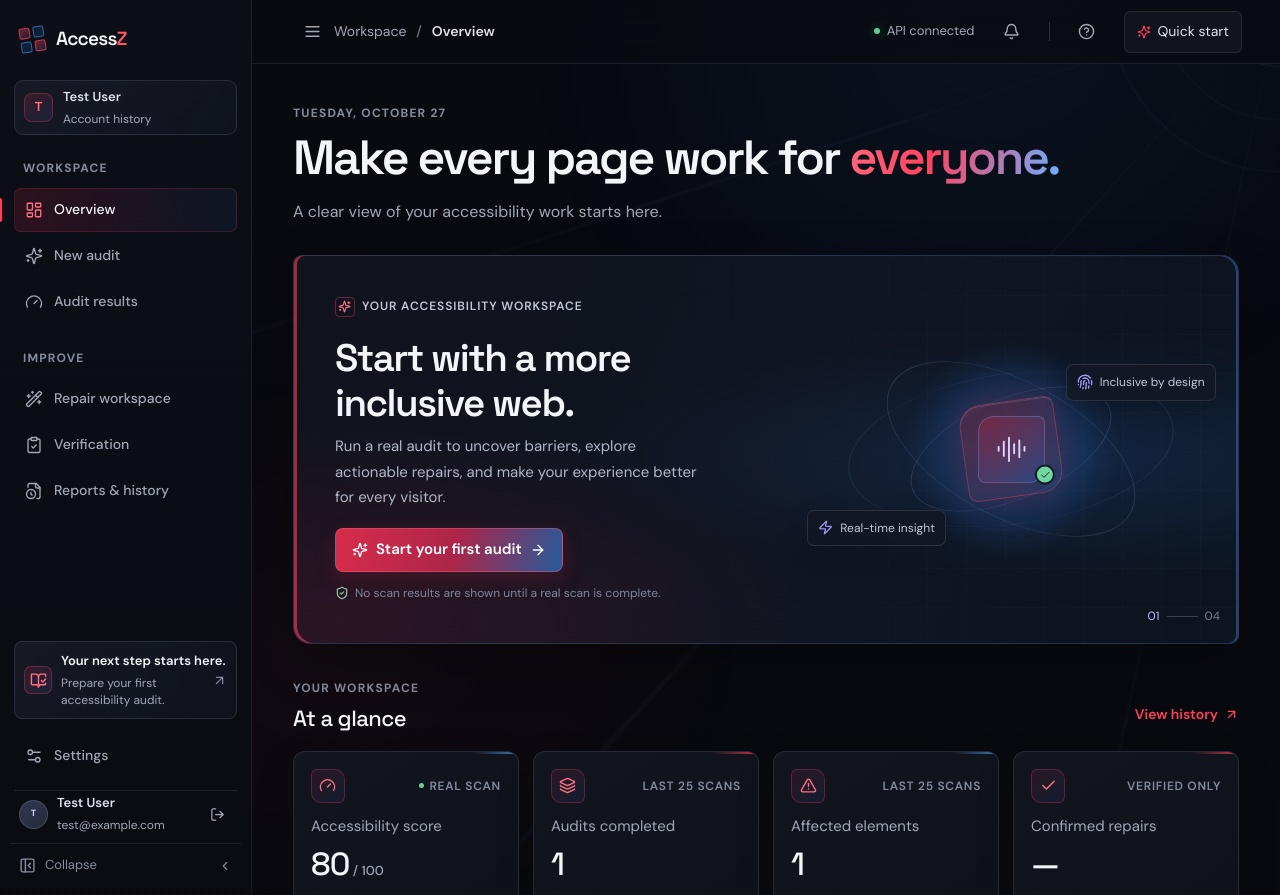
Test case: AccessZ audit workflow › verifies an applied repair only after a successful follow-up comparison
Click the link "Verification": (77, 445) [25,435,129,454]
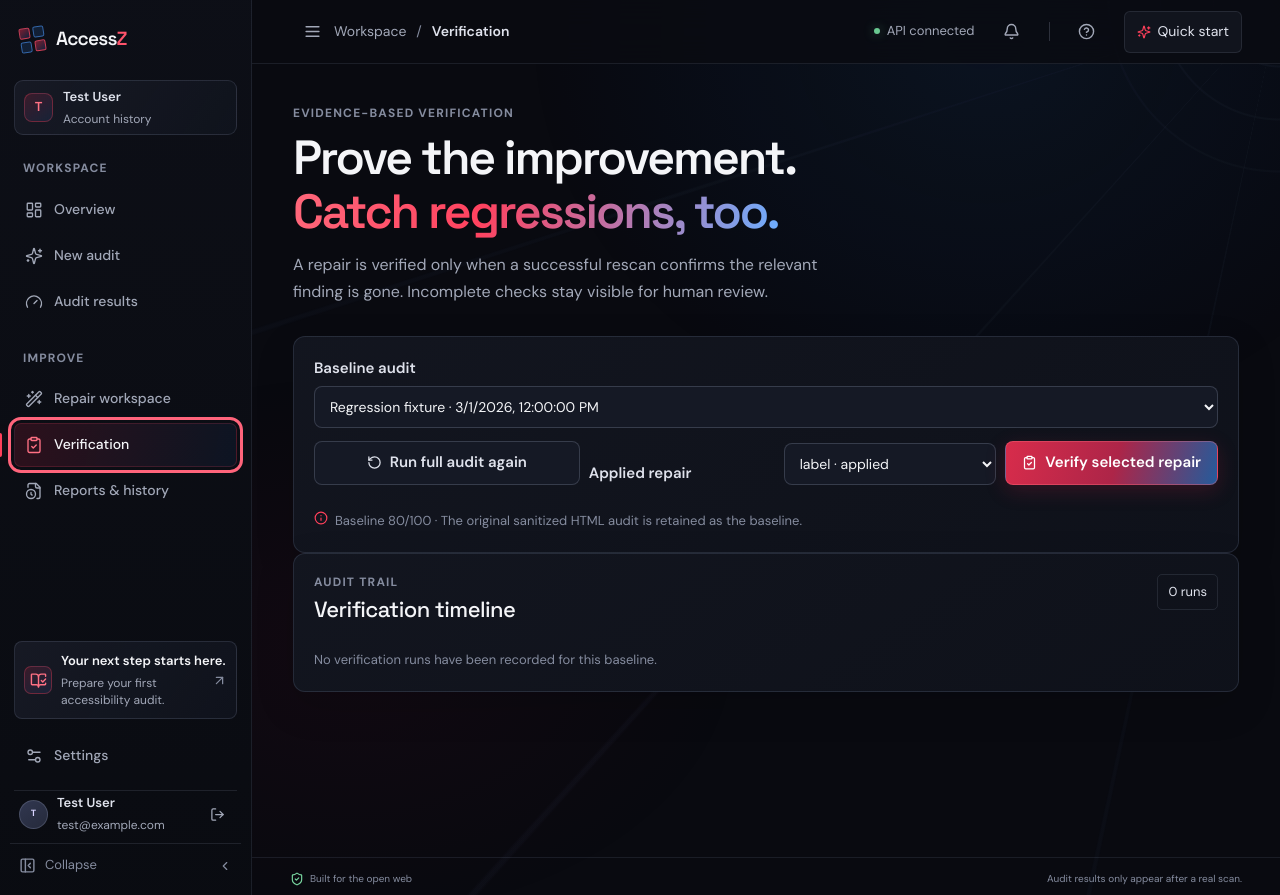
Click the button "Verify selected repair": (1112, 463) [1005,441,1218,485]
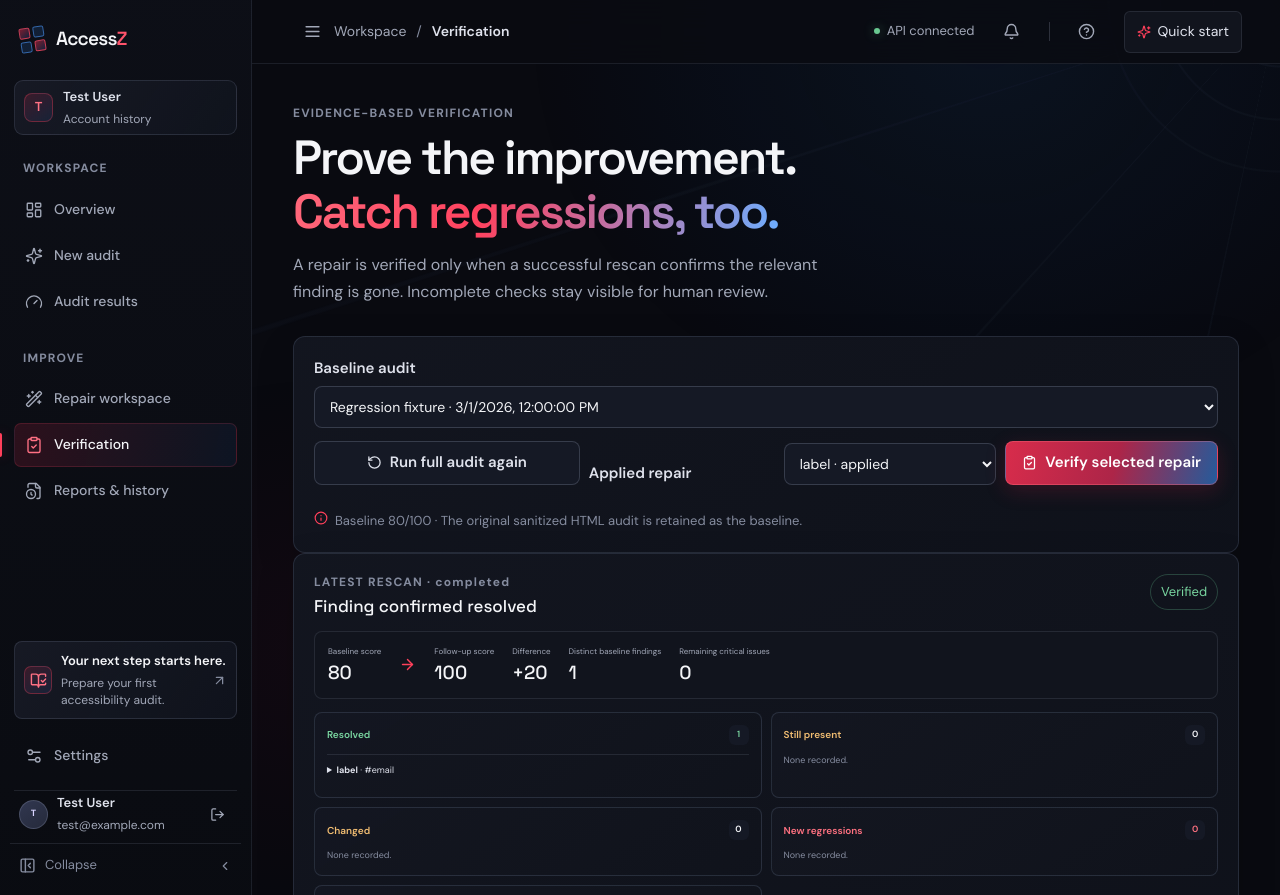
expect the heading "Finding confirmed resolved" is shown: met, box [314,596,537,618]
expect the text "100" is shown: met, box [434,660,467,685]
expect the text "label" is shown: met, box [336,764,358,776]
